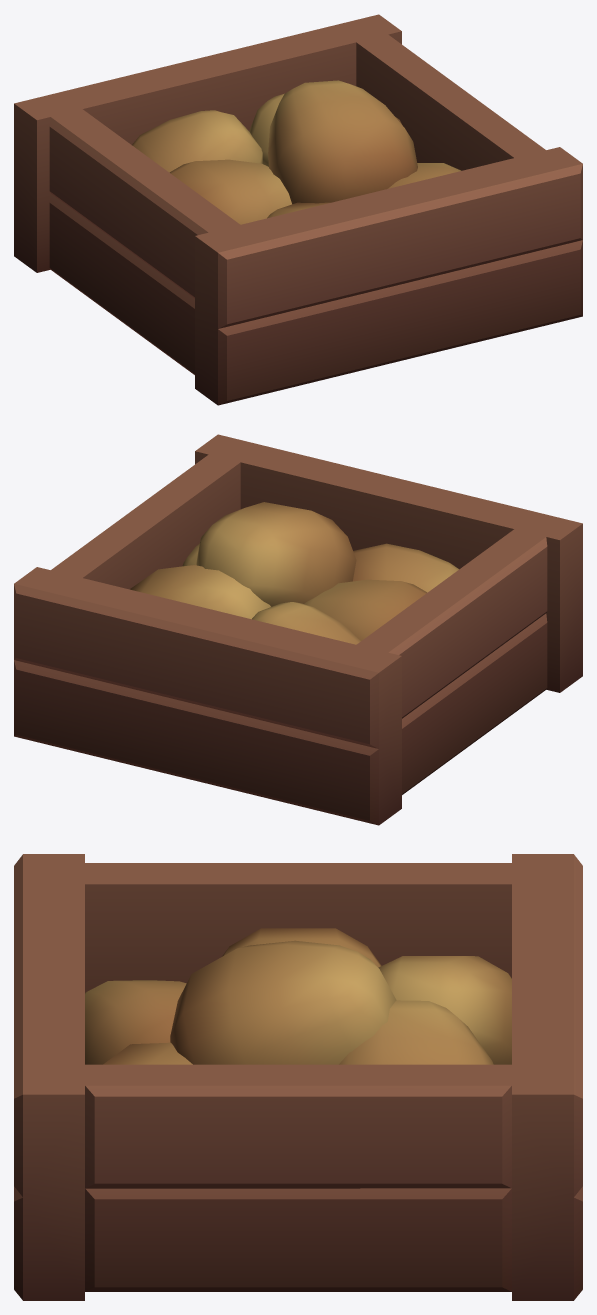
File: crate-potatoes.glb
The picture shows the model from 3 angles, top to bottom: view 1: azimuth 30°, elevation 25°; view 2: azimuth 150°, elevation 25°; view 3: azimuth 270°, elevation 25°; orthographic projection. The views are drawn at different scales.
Visible parts, largest first — view 1: crate-potatoes; view 2: crate-potatoes; view 3: crate-potatoes.
Boxes of the visible parts, x1,y1,x2,y2 form: crate-potatoes: (14,14,582,405); crate-potatoes: (14,434,582,825); crate-potatoes: (14,854,582,1300).
Bounding box in the file's own units: 0.9318 × 0.45 × 0.9318.
